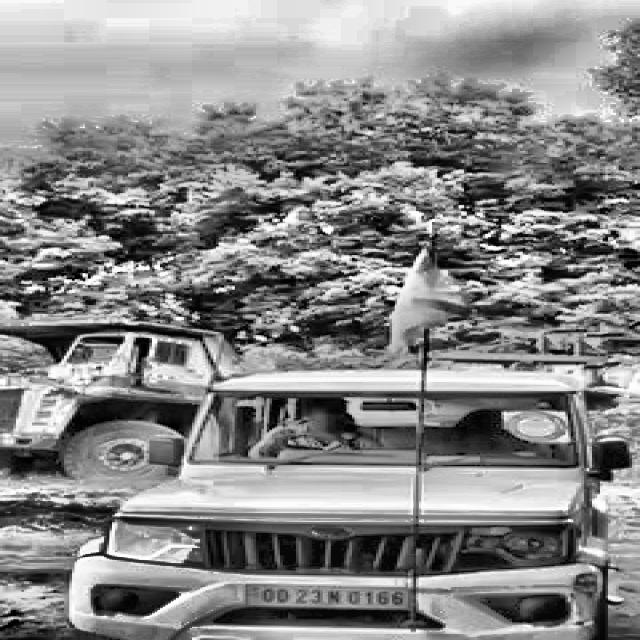light_vehicle: (53, 374, 608, 640)
